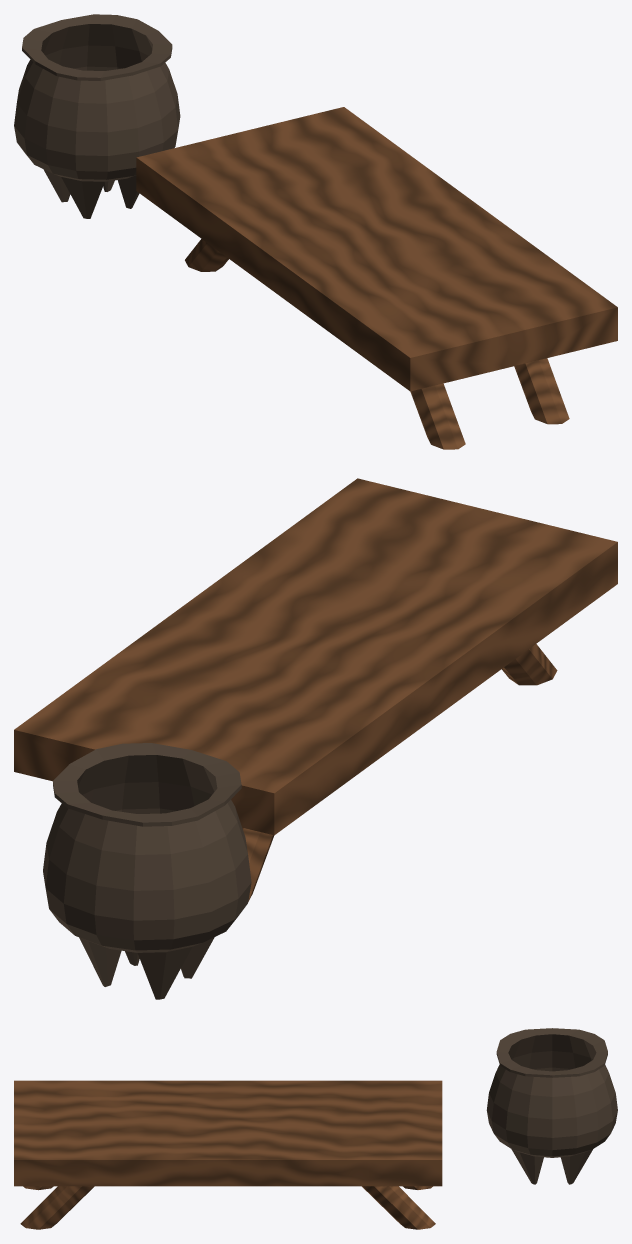
File: prevention.glb
3 renders of one model, top to bottom at view 1: azimuth 30°, elevation 25°; view 2: azimuth 150°, elevation 25°; view 3: azimuth 270°, elevation 25°, orthographic. The views are drawn at different scales.
Parts seen in each view (by area): view 1: Cube.008, Sphere; view 2: Cube.008, Sphere; view 3: Cube.008, Sphere.
Part boxes in pixels (left/top/right/bottom): Cube.008: left=136, top=107, right=617, bottom=449; Sphere: left=14, top=14, right=180, bottom=218; Cube.008: left=14, top=478, right=617, bottom=901; Sphere: left=43, top=743, right=251, bottom=999; Cube.008: left=14, top=1080, right=442, bottom=1229; Sphere: left=486, top=1028, right=617, bottom=1184.
Size of the model in its own units: 2.4 by 1.47 by 6.44.
2 materials, 1 textured.
